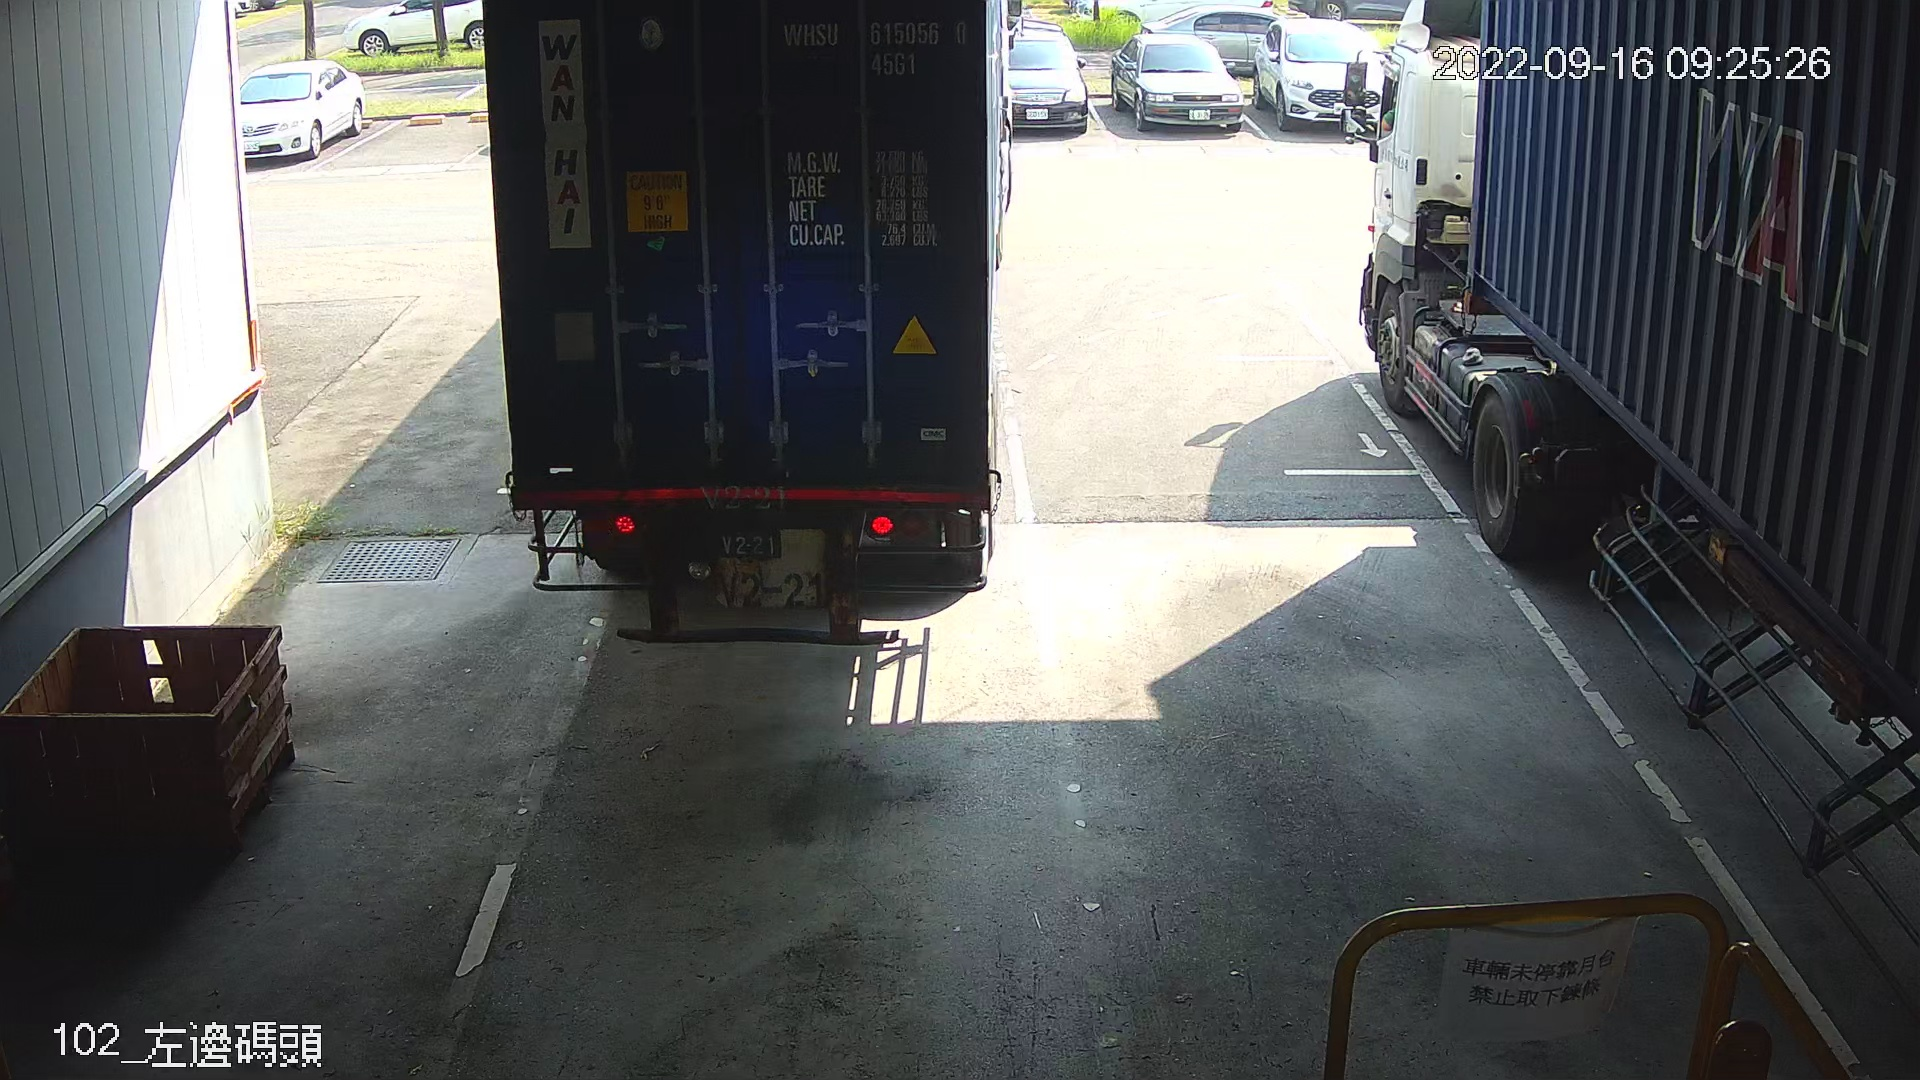container: (773, 11, 976, 84)
